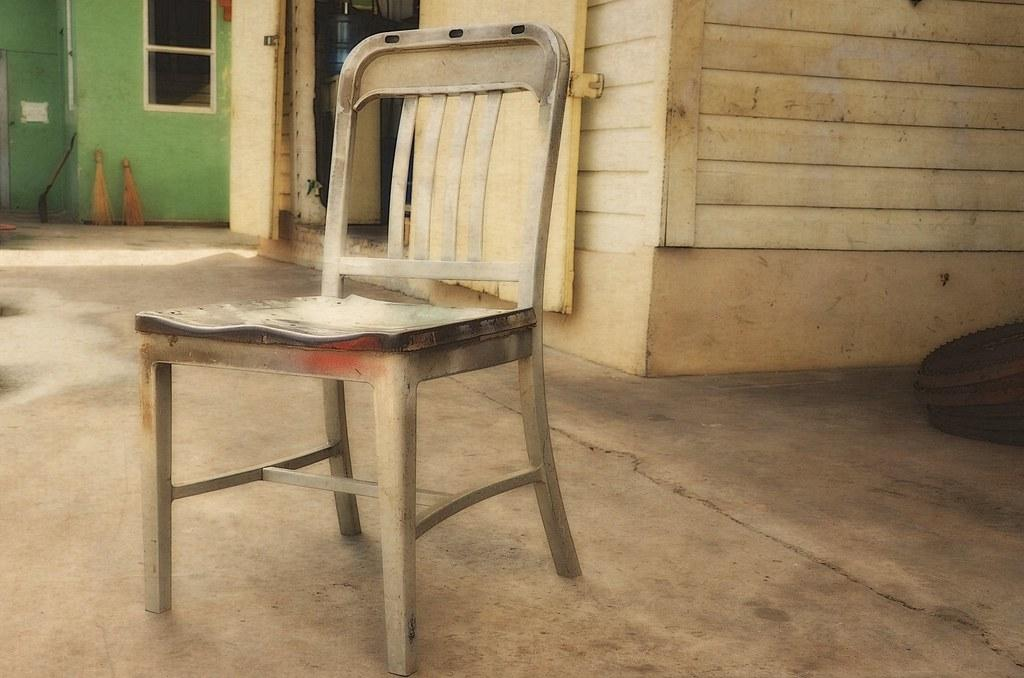chair: (134, 22, 585, 676)
